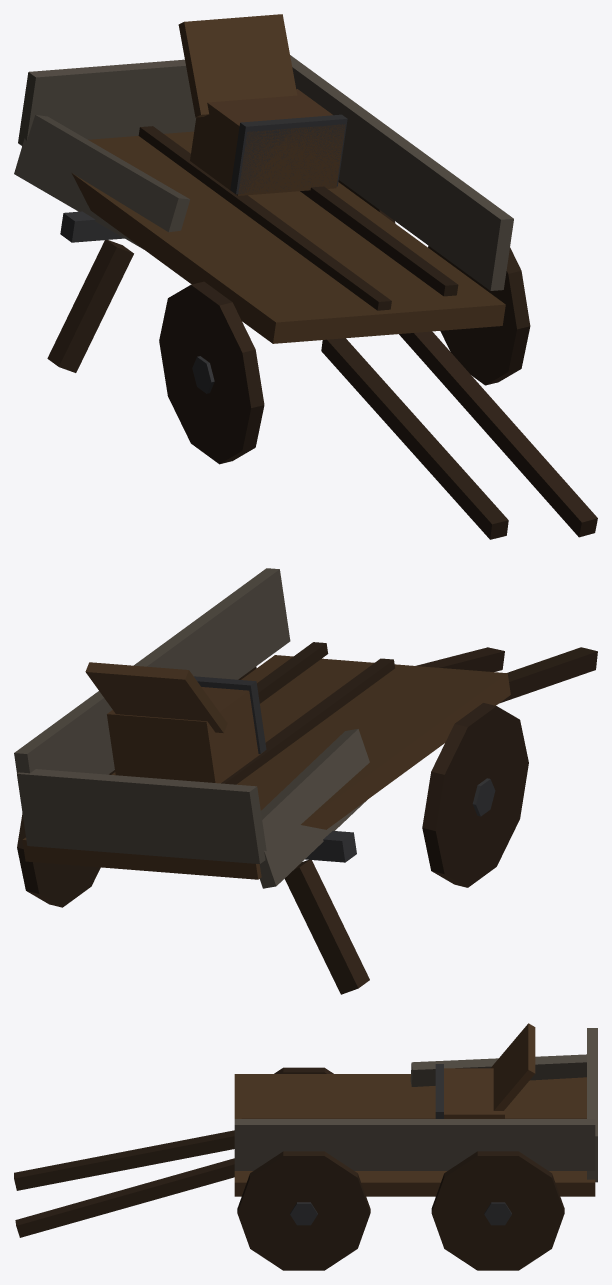
Rendered from cart.glb.
The picture shows the model from 3 angles, top to bottom: view 1: azimuth 30°, elevation 25°; view 2: azimuth 150°, elevation 25°; view 3: azimuth 270°, elevation 25°; orthographic projection. The views are drawn at different scales.
Parts seen in each view (by area): view 1: Cart; view 2: Cart; view 3: Cart.
Boxes of the visible parts, box(x1,y1,x2,y2) form: Cart: box(14, 14, 597, 539); Cart: box(14, 568, 597, 994); Cart: box(14, 1023, 597, 1270).
Size of the model in its own units: 1.81 by 1.72 by 4.21.
